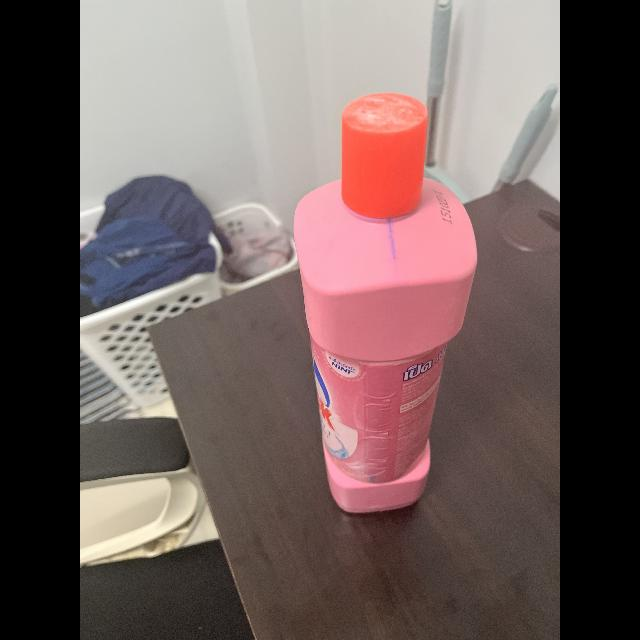chemical_plastic_bottle: (285, 90, 481, 516)
